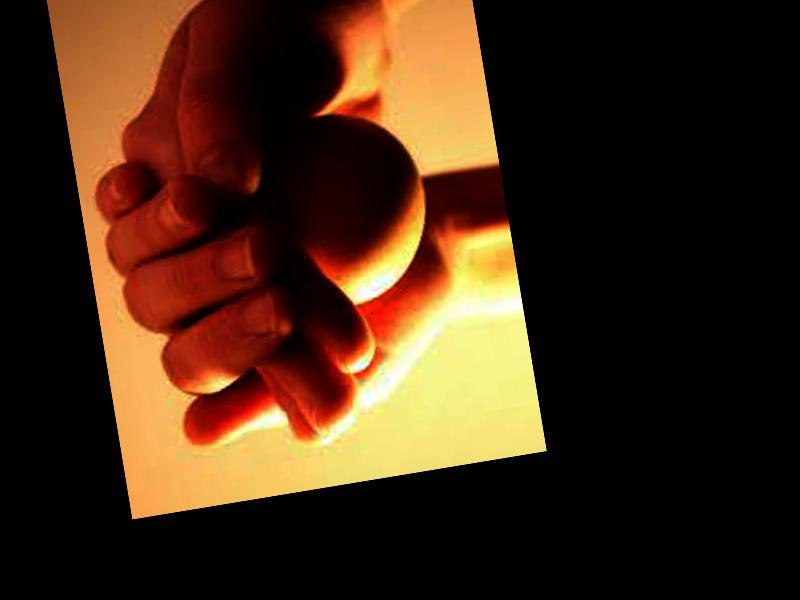Eggs: (264, 99, 440, 314)
